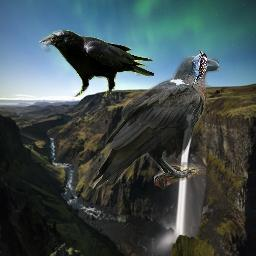Crow: (88, 56, 219, 190), (38, 30, 154, 97)
Woodpecker: (186, 48, 210, 90)
